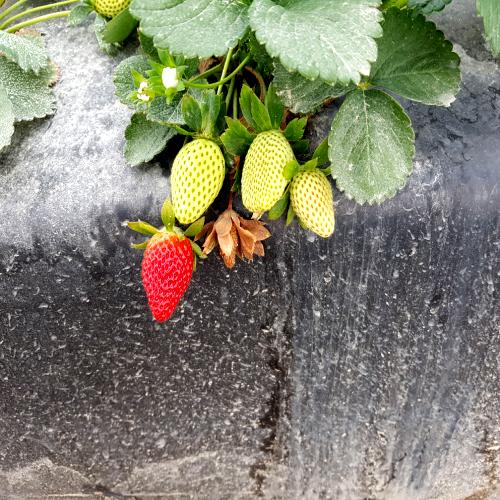ripe: (137, 218, 198, 329)
